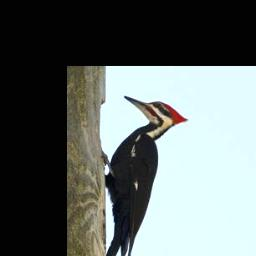Woodpecker: (103, 94, 191, 256)
